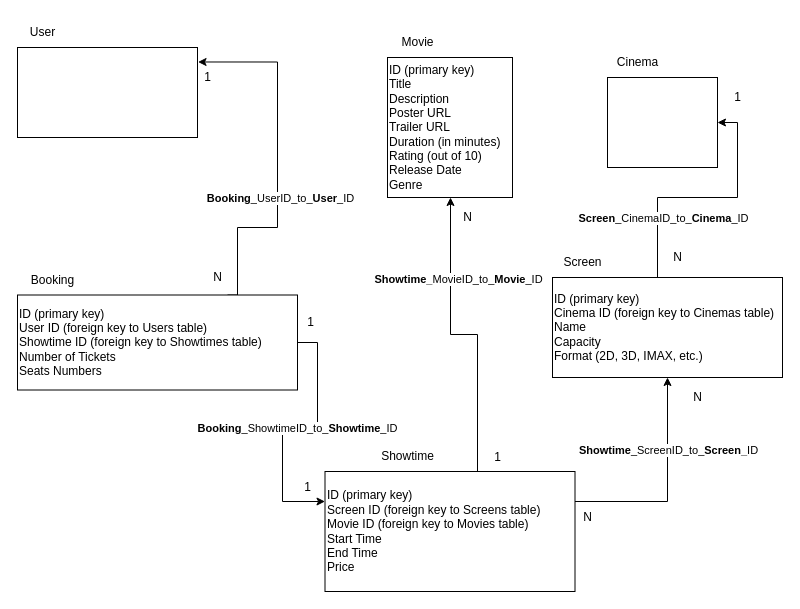
Some shapes in this 800 by 609 pixel diagram are drawn without their labels. Here are the shapes that lost their labels. From the top down, the centre of each, then its label:
At point 107,92: "ID (primary key) Name Email Password Role (admin, customer)".
At point 662,122: "ID (primary key) Name Address Phone Number Email".
